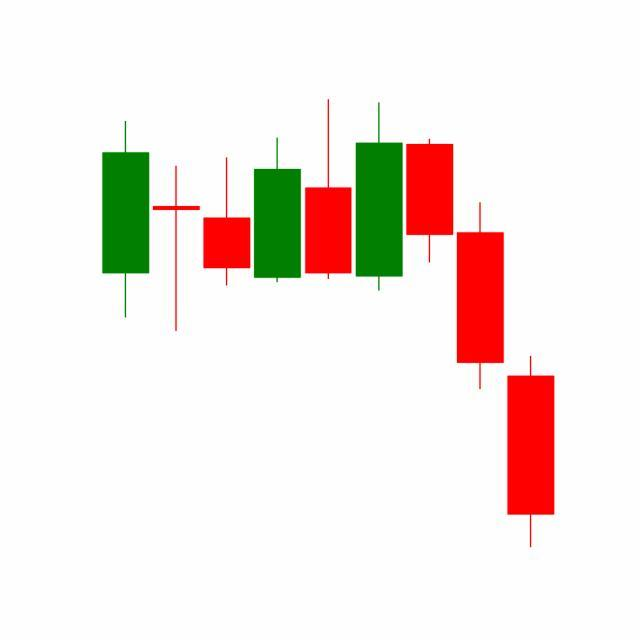Hikkake Pattern: (252, 99, 506, 394)
